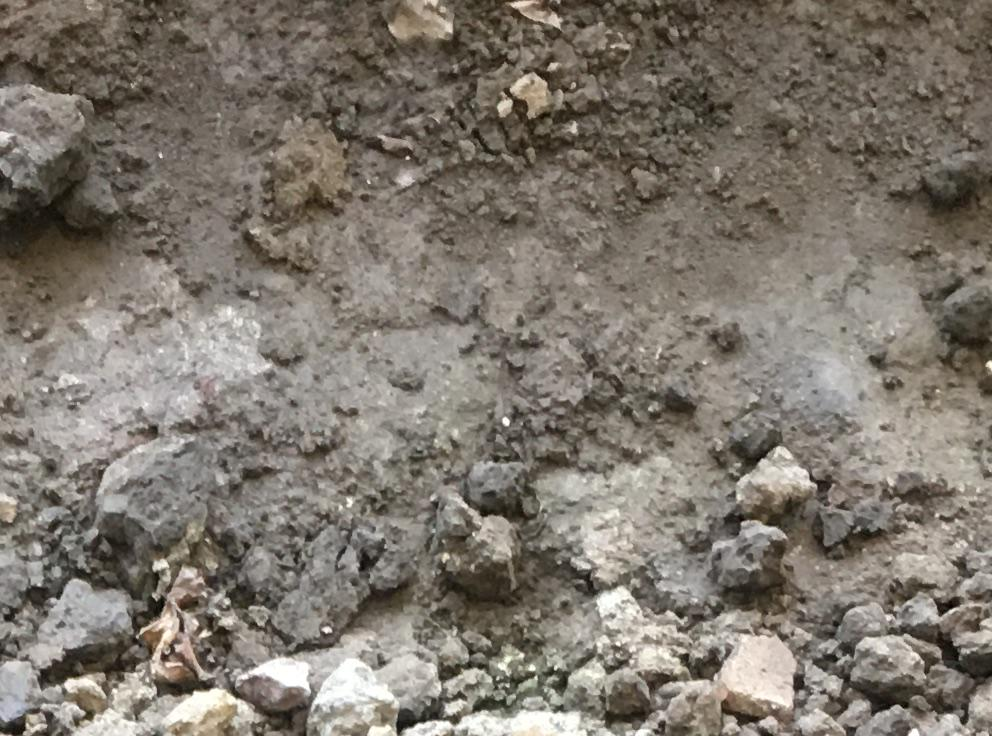block: (1, 84, 98, 226)
